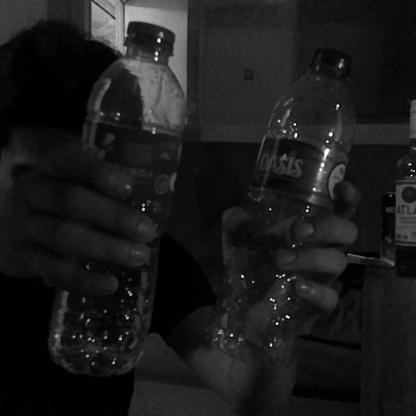plastic_bottles: (44, 19, 188, 382), (204, 47, 356, 372)
